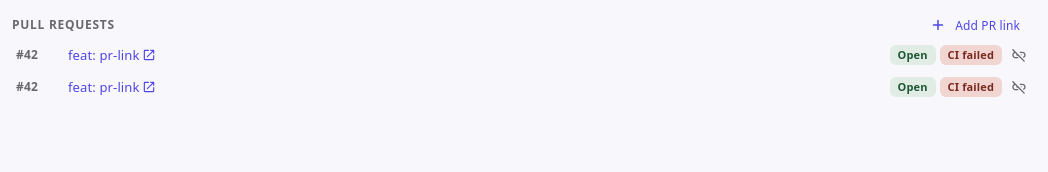
Test case: RelatedItemsCard › Pull Requests section › lists the failing checks in the CI chip tooltip
This screenshot has width=1048, height=172.
Hover over the element named "Failing: test (3 failed); lint": {"x": 971, "y": 55} [940, 45, 1002, 65]
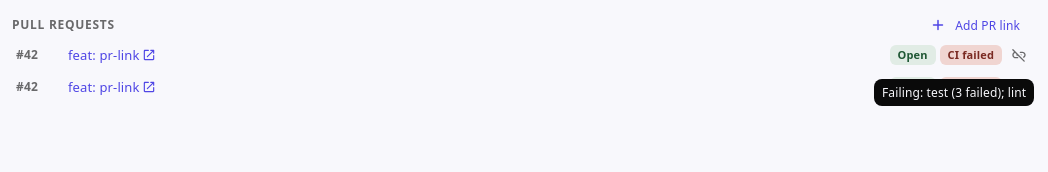
Check: the element named "A check failed on the latest commit" is shown, box [940, 77, 1002, 97]
Check: the tooltip reads "Failing: test (3 failed); lint", box [882, 84, 1026, 101]
